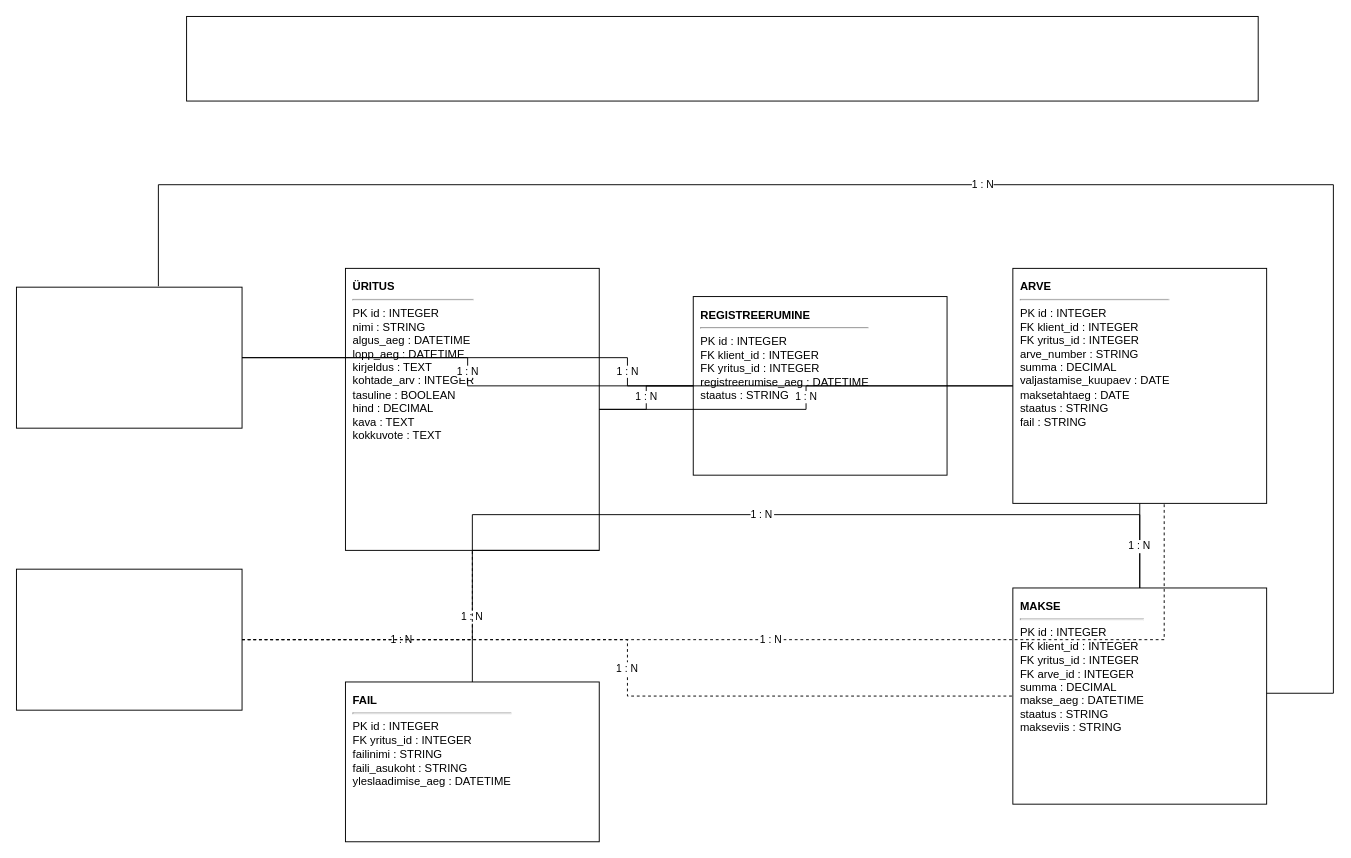
The diagram is 1351 pixels wide and 858 high, and some of its shapes have lost their labels. The shapes that lost their labels are listed below. From the top down, each one's centre as x and y in pixels, then its label:
At point (722, 58): "Üritused".
At point (129, 357): "KLIENT PK id : INTEGER nimi : STRING e_post : STRING telefon : STRING".
At point (129, 639): "AGENTUURI_KASUTAJA PK id : INTEGER nimi : STRING e_post : STRING roll : STRING".
